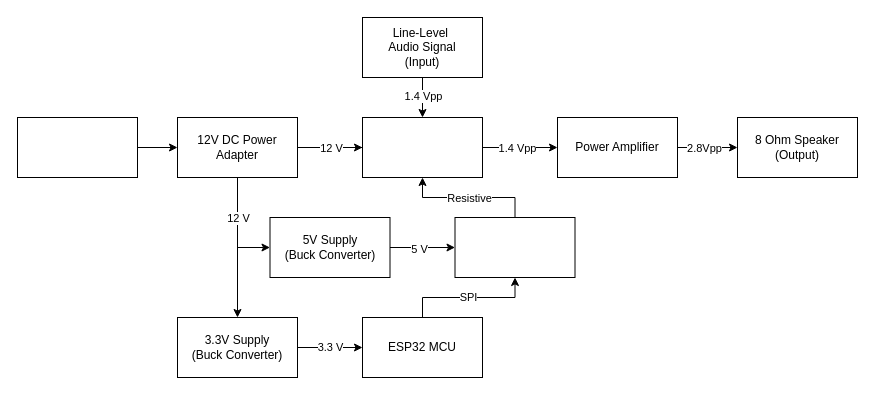
The diagram is 875 pixels wide and 395 high, and some of its shapes have lost their labels. Here are the shapes that lost their labels. From the top down, the centre of each, then its label:
At pixel 77 147: "120V AC Wall Outlet".
At pixel 422 147: "Preamplification Stage".
At pixel 514 247: "Digital Potentiometer".
